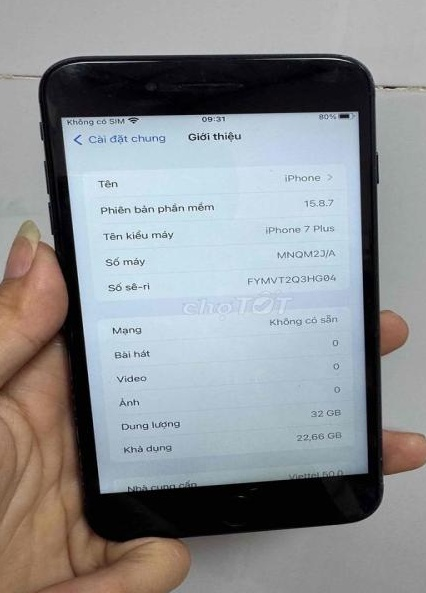scratch: (359, 443, 387, 498), (59, 59, 84, 79)
